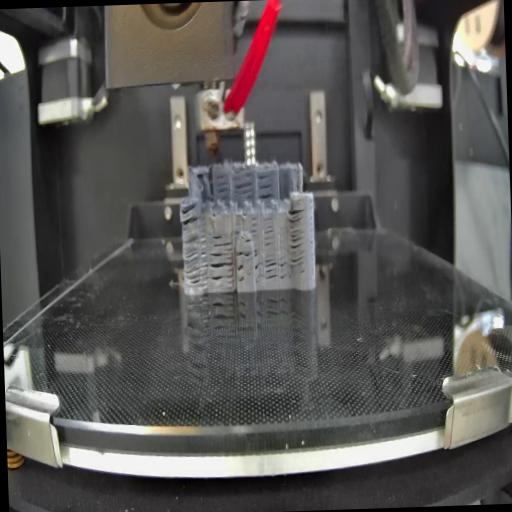cracks: (182, 234, 208, 287), (288, 205, 308, 270), (210, 252, 234, 286), (180, 202, 203, 228), (254, 261, 289, 278), (215, 168, 231, 204), (256, 171, 274, 202), (234, 172, 254, 198), (262, 214, 274, 247), (212, 232, 233, 248), (237, 246, 259, 261), (232, 213, 244, 235), (236, 264, 244, 286), (250, 216, 258, 233), (196, 169, 204, 182), (244, 238, 252, 246)
